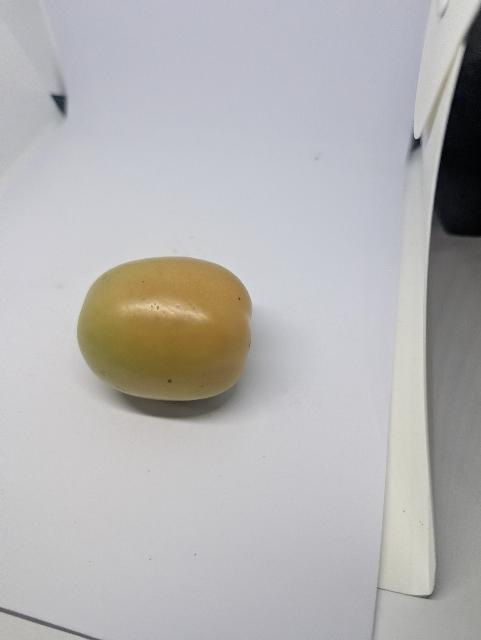breaker: (71, 248, 259, 409)
